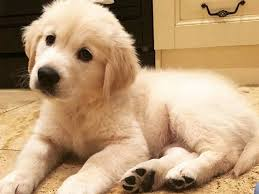Golden Retriever: (9, 1, 259, 190)
